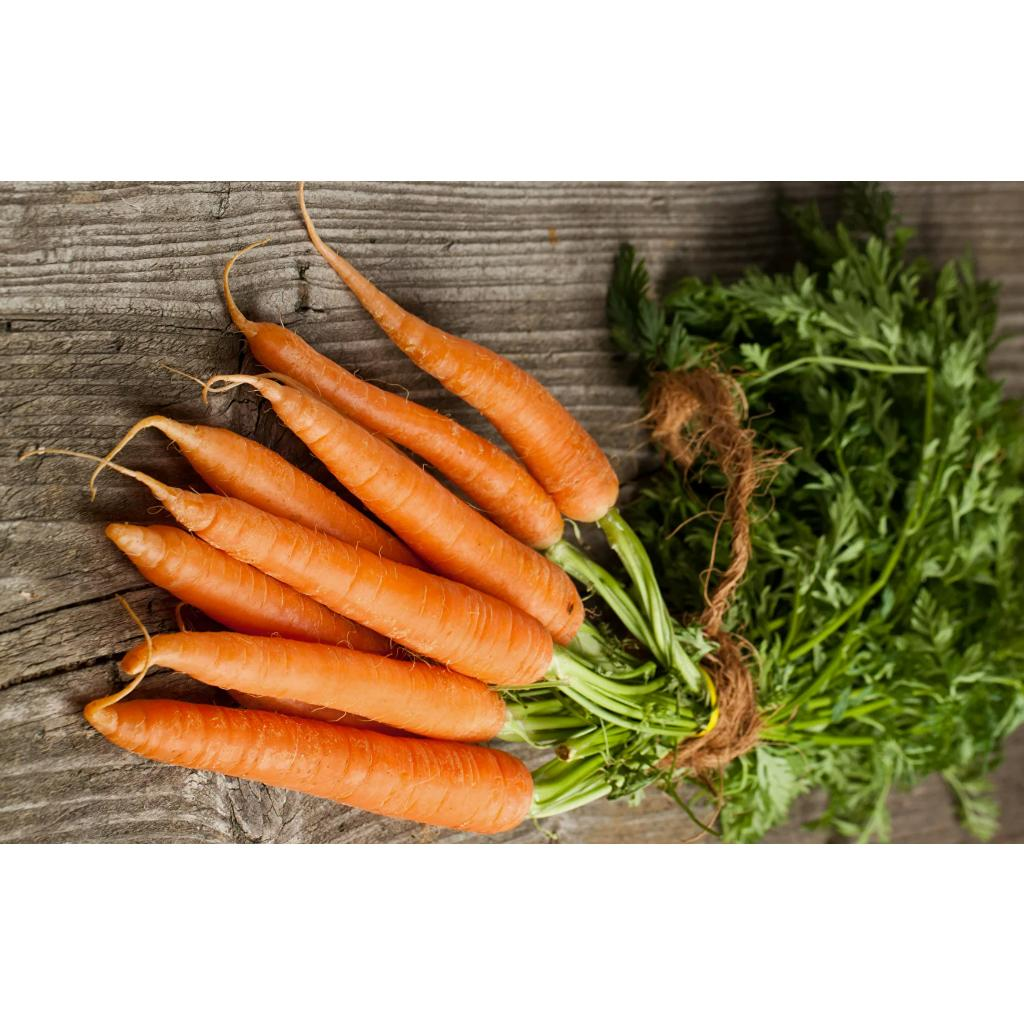carrot: (248, 378, 584, 644), (324, 252, 618, 520), (164, 488, 552, 684), (246, 320, 562, 548), (90, 698, 532, 832), (152, 632, 506, 742), (106, 522, 396, 656), (176, 424, 426, 568)
